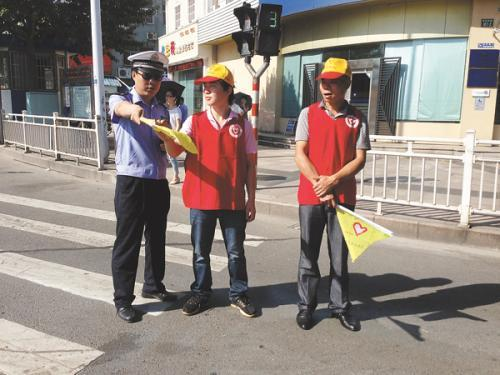up: (286, 63, 380, 334), (103, 44, 179, 326), (180, 65, 259, 322)
